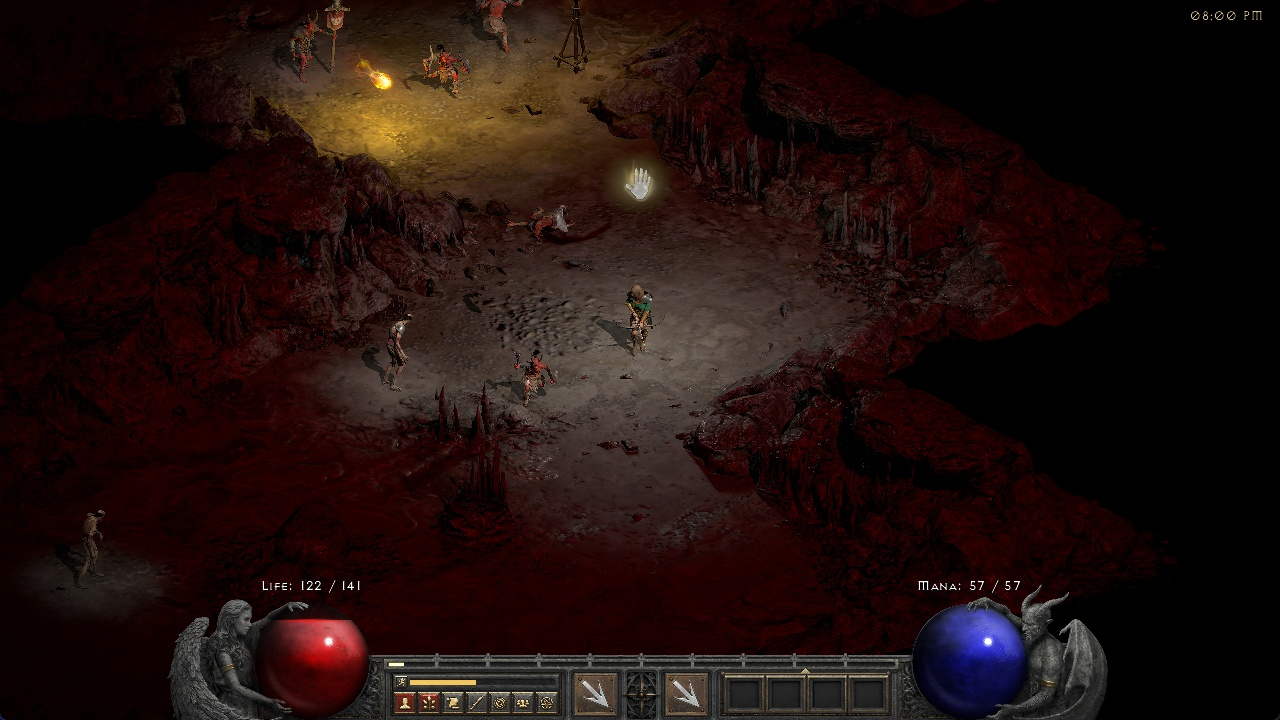fallen: (504, 346, 564, 402), (469, 1, 525, 55), (418, 44, 469, 102)
